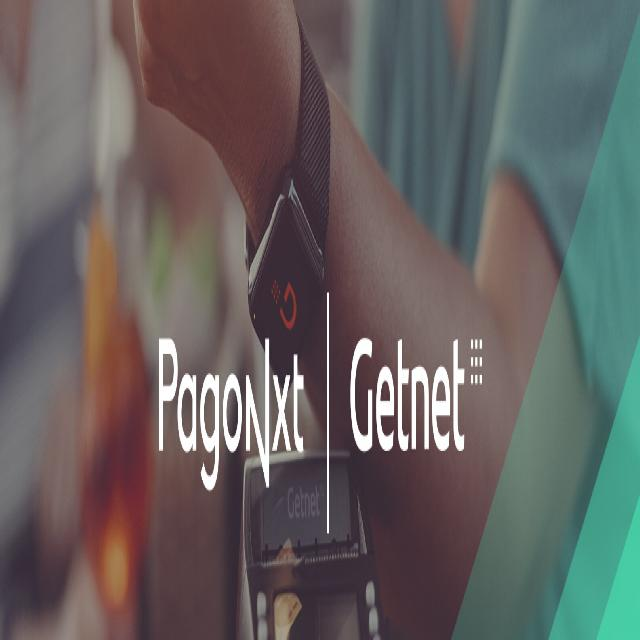getnet: (350, 338, 482, 451), (287, 484, 324, 519)
pago_nxt: (159, 338, 304, 492)
